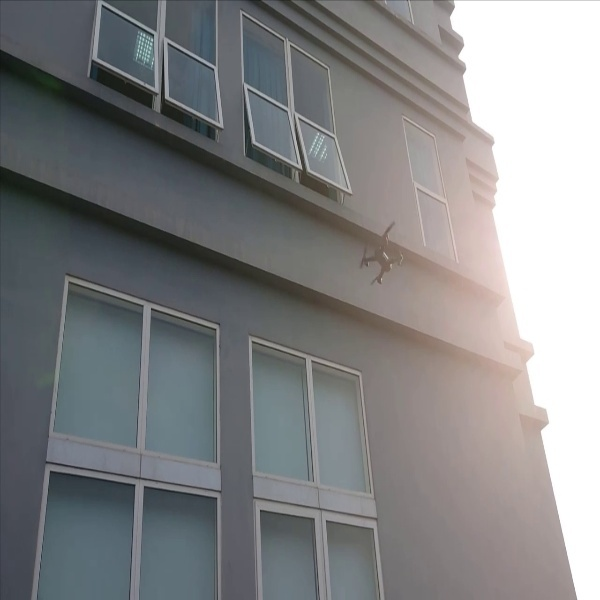drone: (349, 213, 412, 289)
